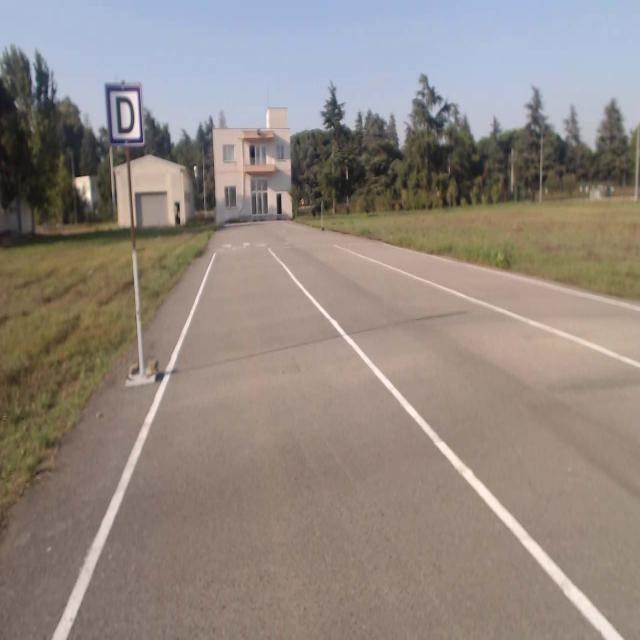durak: (106, 84, 144, 143)
